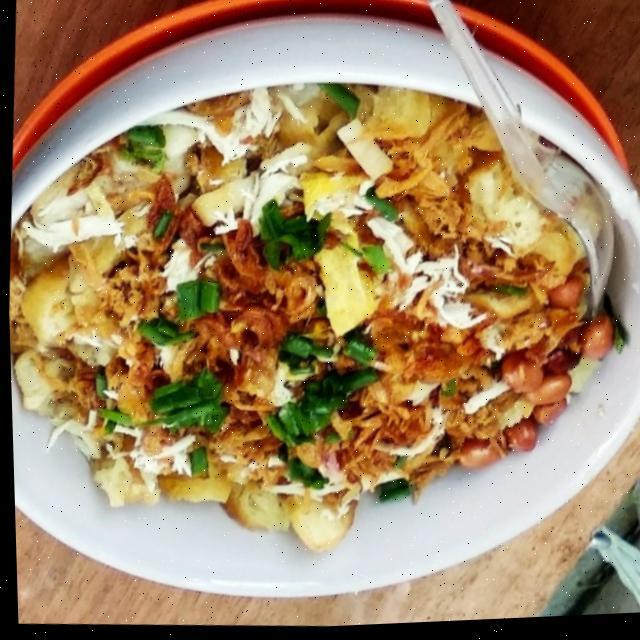bubur ayam: (2, 58, 628, 585)
mangkuk: (0, 0, 640, 632)
